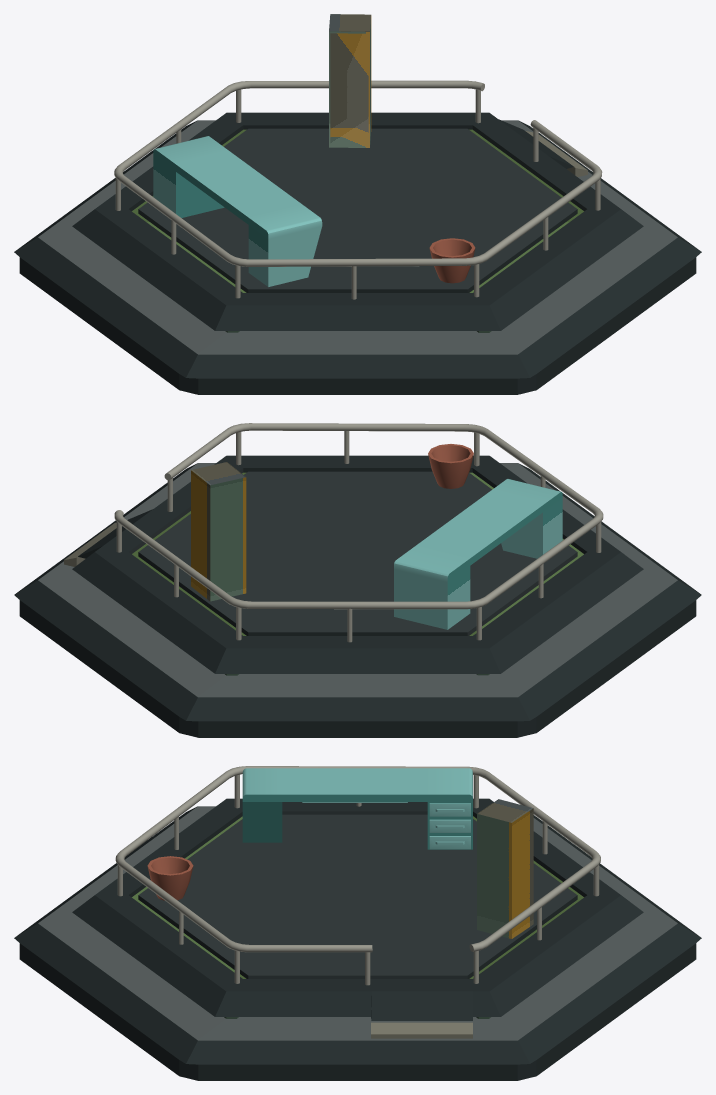
Rendered from BaseTerminal_Mesh.fbx.
3 views of the same model, one above another, from view 1: azimuth 30°, elevation 25°; view 2: azimuth 150°, elevation 25°; view 3: azimuth 270°, elevation 25° (orthographic).
Visible parts, largest first — view 1: Cylinder, Cylinder.005, Cube, Plane, Cube.004, Cylinder.003, Cube.001, Cylinder.001, Cylinder.004; view 2: Cylinder, Cylinder.005, Cube, Plane, Cube.001, Cylinder.003, Cylinder.001, Cylinder.004; view 3: Cylinder, Cylinder.005, Cube, Cube.001, Plane, Cylinder.003, Cube.002, Cylinder.001, Cylinder.004.
Part boxes in pixels (left/top/right/bottom): Cylinder: left=14, top=112, right=701, bottom=394; Cylinder.005: left=38, top=120, right=677, bottom=354; Cube: left=153, top=136, right=322, bottom=286; Plane: left=114, top=80, right=602, bottom=266; Cube.004: left=330, top=33, right=368, bottom=146; Cylinder.003: left=115, top=89, right=600, bottom=299; Cube.001: left=329, top=14, right=371, bottom=147; Cylinder.001: left=429, top=238, right=475, bottom=283; Cylinder.004: left=132, top=129, right=583, bottom=292; Cylinder: left=14, top=455, right=701, bottom=737; Cylinder.005: left=38, top=463, right=677, bottom=697; Cube: left=394, top=479, right=562, bottom=629; Plane: left=114, top=423, right=603, bottom=609; Cube.001: left=191, top=462, right=246, bottom=601; Cylinder.003: left=116, top=431, right=601, bottom=642; Cylinder.001: left=428, top=444, right=473, bottom=488; Cylinder.004: left=132, top=472, right=583, bottom=635; Cylinder: left=14, top=798, right=701, bottom=1080; Cylinder.005: left=38, top=806, right=677, bottom=1040; Cube: left=242, top=768, right=472, bottom=849; Cube.001: left=477, top=799, right=533, bottom=938; Plane: left=115, top=766, right=600, bottom=952; Cylinder.003: left=117, top=774, right=599, bottom=985; Cube.002: left=371, top=1022, right=472, bottom=1038; Cylinder.001: left=147, top=856, right=193, bottom=900; Cylinder.004: left=132, top=816, right=583, bottom=978.
Size of the model in its own units: 777 by 253 by 896.
